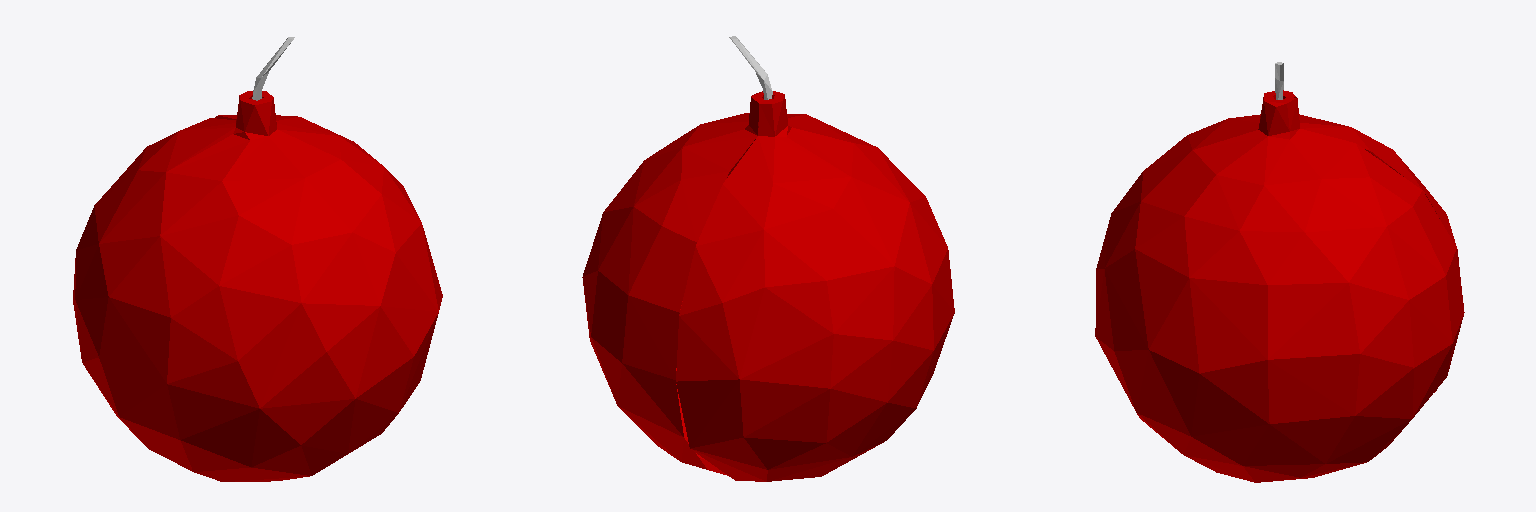
Rendered from Bom.obj.
3 renders of one model, left to right at view 1: azimuth 30°, elevation 25°; view 2: azimuth 150°, elevation 25°; view 3: azimuth 270°, elevation 25°, orthographic.
Visible parts, largest first — view 1: Circle; view 2: Circle; view 3: Circle.
Part boxes in pixels (x1,y1,x2,y2): Circle: (73, 37, 442, 481); Circle: (582, 36, 954, 481); Circle: (1095, 62, 1464, 482).
Size of the model in its own units: 1.59 by 1.98 by 1.58.